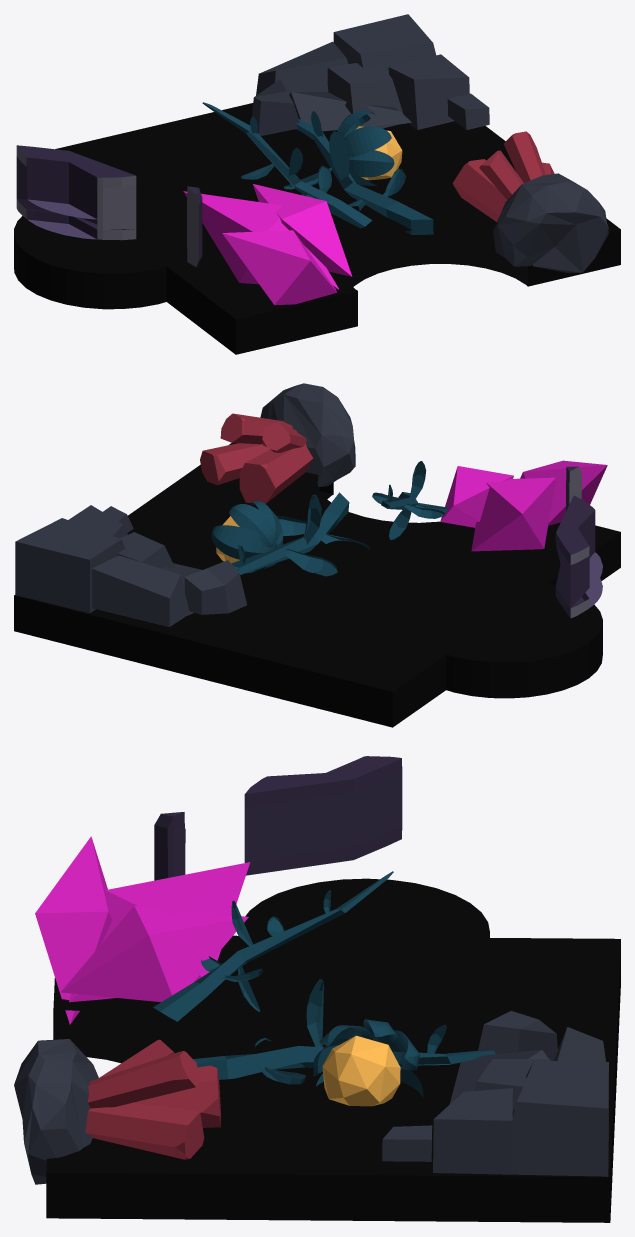
File: peça 2.fbx
The picture shows the model from 3 angles, top to bottom: view 1: azimuth 30°, elevation 25°; view 2: azimuth 150°, elevation 25°; view 3: azimuth 270°, elevation 25°; orthographic projection. The views are drawn at different scales.
Visible parts, largest first — view 1: peça2, Cube.038, crystal_basalt_red.001, flor.005, casa peça 2, flor.004; view 2: peça2, Cube.038, crystal_basalt_red.001, flor.005, flor.004, casa peça 2; view 3: peça2, Cube.038, flor.005, crystal_basalt_red.001, flor.004, casa peça 2.
Part boxes in pixels (box(x1,y1,x2,y2)): peça2: box(14, 103, 620, 354); Cube.038: box(252, 14, 489, 135); crystal_basalt_red.001: box(452, 131, 608, 272); flor.005: box(183, 184, 352, 305); casa peça 2: box(16, 145, 202, 267); flor.004: box(202, 102, 433, 234); peça2: box(14, 443, 620, 727); Cube.038: box(15, 505, 246, 627); crystal_basalt_red.001: box(200, 383, 355, 503); flor.005: box(440, 460, 607, 551); flor.004: box(211, 461, 447, 576); casa peça 2: box(555, 466, 602, 618); peça2: box(46, 878, 620, 1222); Cube.038: box(382, 1011, 608, 1176); flor.005: box(35, 836, 250, 1024); crystal_basalt_red.001: box(14, 1039, 220, 1184); flor.004: box(153, 871, 495, 1106); casa peça 2: box(154, 756, 402, 880).
Bounding box in the file's own units: 1405 × 373 × 1207.
